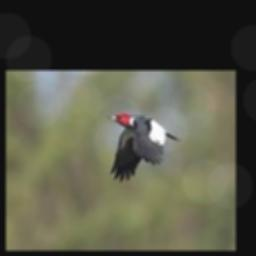Woodpecker: (107, 112, 181, 181)
